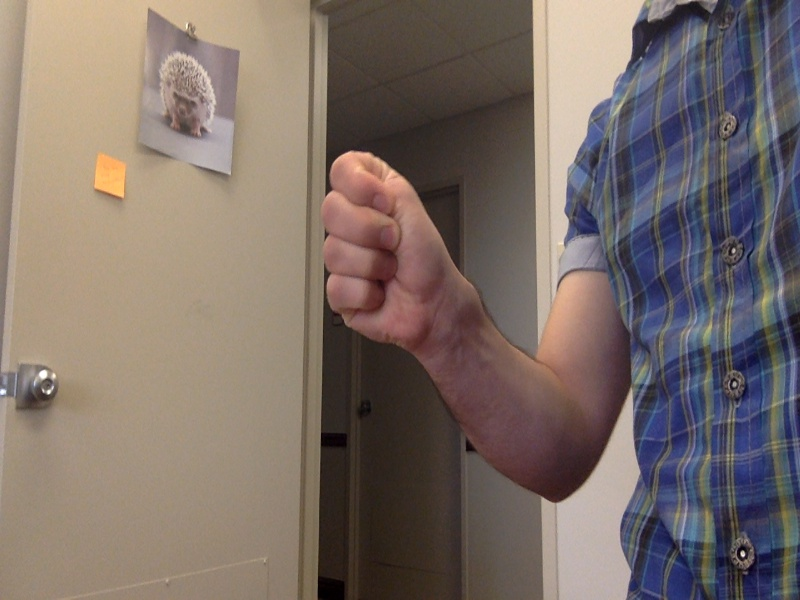0-hand: (318, 144, 450, 357)
